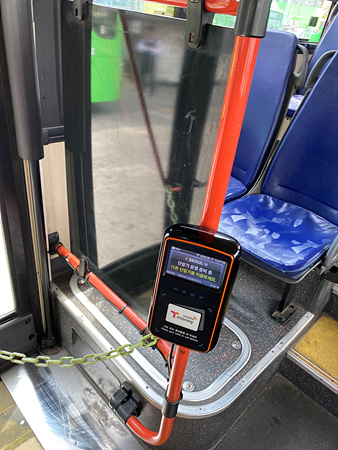terminal: (154, 231, 230, 349)
